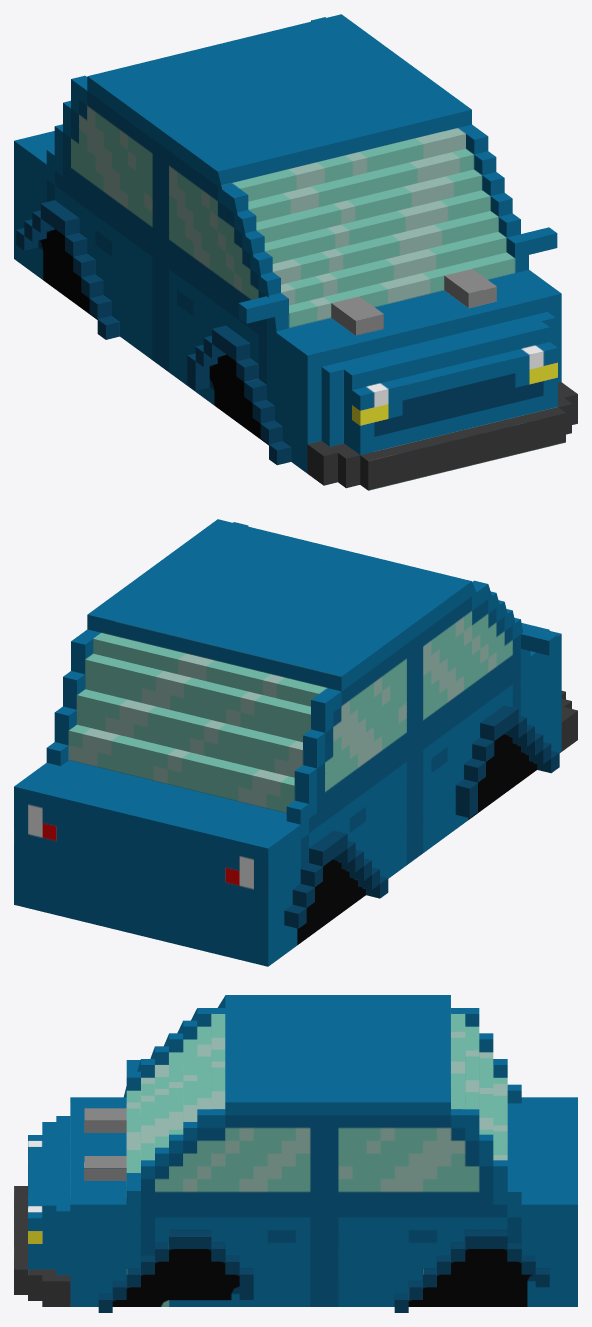
File: Car_Var1_2.obj
3 views of the same model, one above another, from view 1: azimuth 30°, elevation 25°; view 2: azimuth 150°, elevation 25°; view 3: azimuth 270°, elevation 25° (orthographic). The views are drawn at different scales.
Visible parts, largest first — view 1: Car_Var1_2_Car_Var1_2.001; view 2: Car_Var1_2_Car_Var1_2.001; view 3: Car_Var1_2_Car_Var1_2.001.
Boxes of the visible parts, box(x1,y1,x2,y2) form: Car_Var1_2_Car_Var1_2.001: box(14, 14, 577, 490); Car_Var1_2_Car_Var1_2.001: box(14, 519, 577, 966); Car_Var1_2_Car_Var1_2.001: box(14, 995, 577, 1312).
Bounding box in the file's own units: 2.2 × 1.6 × 4.
